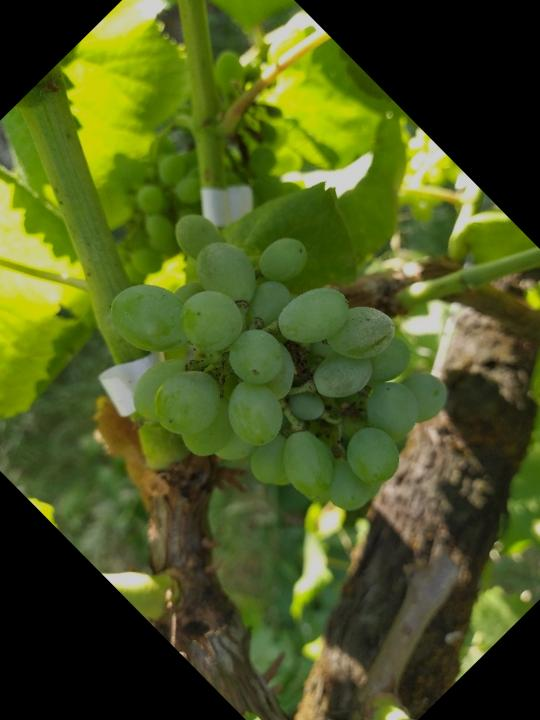grape: (55, 158, 480, 584)
